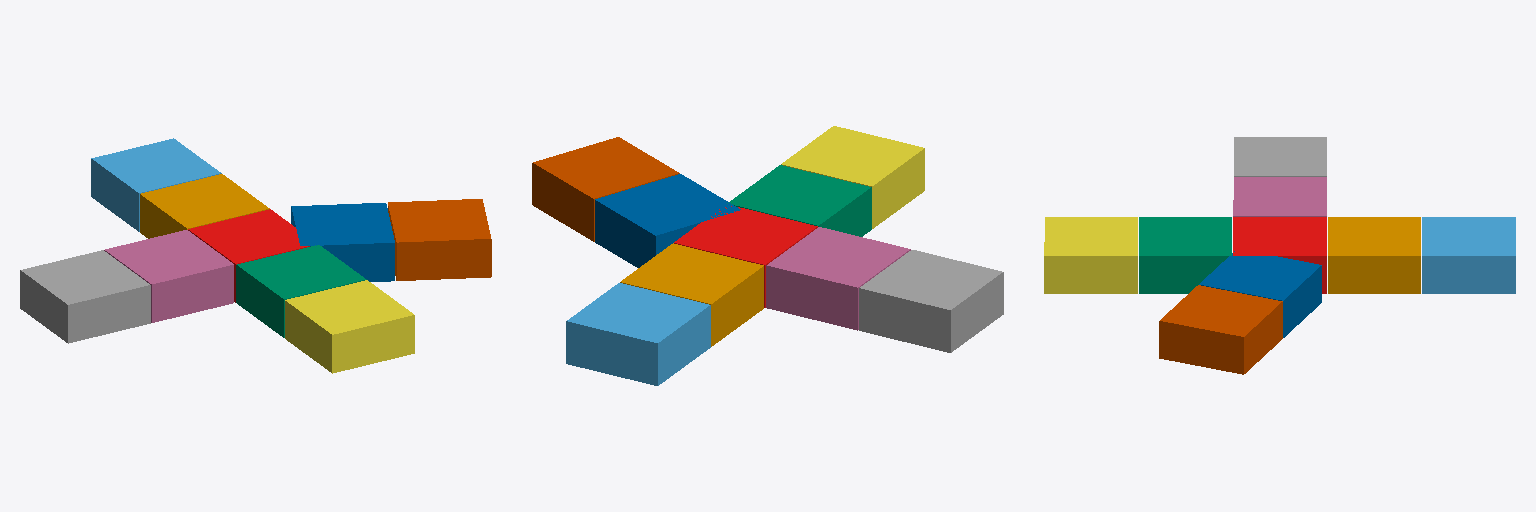
URDF robot description (rob):
<?xml version='1.0' encoding='UTF-8'?>
<robot name="rob">
  <link name="set1_arm1">
    <inertial>
      <origin xyz="0.0 0.34 0.0" rpy="0.0 0.0 0.0"/>
      <mass value="1.0"/>
      <inertia ixx="0.0" ixy="0.0" ixz="0.0" iyy="0.0" iyz="0.0" izz="0.0"/>
    </inertial>
    <visual>
      <geometry>
        <box size="0.67 0.67 0.3 "/>
      </geometry>
      <origin xyz="0.0 0.34 0.0" rpy="0.0 0.0 0.0"/>
    </visual>
    <collision>
      <geometry>
        <box size="0.67 0.67 0.3 "/>
      </geometry>
      <origin xyz="0.0 0.34 0.0" rpy="0.0 0.0 0.0"/>
    </collision>
  </link>
  <link name="set1_arm2">
    <inertial>
      <origin xyz="0.0 0.34 0.0" rpy="0.0 0.0 0.0"/>
      <mass value="1.0"/>
      <inertia ixx="0.0" ixy="0.0" ixz="0.0" iyy="0.0" iyz="0.0" izz="0.0"/>
    </inertial>
    <visual>
      <geometry>
        <box size="0.67 0.67 0.3 "/>
      </geometry>
      <origin xyz="0.0 0.34 0.0" rpy="0.0 0.0 0.0"/>
    </visual>
    <collision>
      <geometry>
        <box size="0.67 0.67 0.3 "/>
      </geometry>
      <origin xyz="0.0 0.34 0.0" rpy="0.0 0.0 0.0"/>
    </collision>
  </link>
  <link name="set2_arm1">
    <inertial>
      <origin xyz="0.0 0.34 0.0" rpy="0.0 0.0 0.0"/>
      <mass value="1.0"/>
      <inertia ixx="0.0" ixy="0.0" ixz="0.0" iyy="0.0" iyz="0.0" izz="0.0"/>
    </inertial>
    <visual>
      <geometry>
        <box size="0.67 0.67 0.3 "/>
      </geometry>
      <origin xyz="0.0 0.34 0.0" rpy="0.0 0.0 0.0"/>
    </visual>
    <collision>
      <geometry>
        <box size="0.67 0.67 0.3 "/>
      </geometry>
      <origin xyz="0.0 0.34 0.0" rpy="0.0 0.0 0.0"/>
    </collision>
  </link>
  <link name="set2_arm2">
    <inertial>
      <origin xyz="0.0 0.34 0.0" rpy="0.0 0.0 0.0"/>
      <mass value="1.0"/>
      <inertia ixx="0.0" ixy="0.0" ixz="0.0" iyy="0.0" iyz="0.0" izz="0.0"/>
    </inertial>
    <visual>
      <geometry>
        <box size="0.67 0.67 0.3 "/>
      </geometry>
      <origin xyz="0.0 0.34 0.0" rpy="0.0 0.0 0.0"/>
    </visual>
    <collision>
      <geometry>
        <box size="0.67 0.67 0.3 "/>
      </geometry>
      <origin xyz="0.0 0.34 0.0" rpy="0.0 0.0 0.0"/>
    </collision>
  </link>
  <link name="set3_arm1">
    <inertial>
      <origin xyz="0.0 0.34 0.0" rpy="0.0 0.0 0.0"/>
      <mass value="1.0"/>
      <inertia ixx="0.0" ixy="0.0" ixz="0.0" iyy="0.0" iyz="0.0" izz="0.0"/>
    </inertial>
    <visual>
      <geometry>
        <box size="0.67 0.67 0.3 "/>
      </geometry>
      <origin xyz="0.0 0.34 0.0" rpy="0.0 0.0 0.0"/>
    </visual>
    <collision>
      <geometry>
        <box size="0.67 0.67 0.3 "/>
      </geometry>
      <origin xyz="0.0 0.34 0.0" rpy="0.0 0.0 0.0"/>
    </collision>
  </link>
  <link name="set3_arm2">
    <inertial>
      <origin xyz="0.0 0.34 0.0" rpy="0.0 0.0 0.0"/>
      <mass value="1.0"/>
      <inertia ixx="0.0" ixy="0.0" ixz="0.0" iyy="0.0" iyz="0.0" izz="0.0"/>
    </inertial>
    <visual>
      <geometry>
        <box size="0.67 0.67 0.3 "/>
      </geometry>
      <origin xyz="0.0 0.34 0.0" rpy="0.0 0.0 0.0"/>
    </visual>
    <collision>
      <geometry>
        <box size="0.67 0.67 0.3 "/>
      </geometry>
      <origin xyz="0.0 0.34 0.0" rpy="0.0 0.0 0.0"/>
    </collision>
  </link>
  <link name="set4_arm1">
    <inertial>
      <origin xyz="0.0 0.34 0.0" rpy="0.0 0.0 0.0"/>
      <mass value="1.0"/>
      <inertia ixx="0.0" ixy="0.0" ixz="0.0" iyy="0.0" iyz="0.0" izz="0.0"/>
    </inertial>
    <visual>
      <geometry>
        <box size="0.67 0.67 0.3 "/>
      </geometry>
      <origin xyz="0.0 0.34 0.0" rpy="0.0 0.0 0.0"/>
    </visual>
    <collision>
      <geometry>
        <box size="0.67 0.67 0.3 "/>
      </geometry>
      <origin xyz="0.0 0.34 0.0" rpy="0.0 0.0 0.0"/>
    </collision>
  </link>
  <link name="set4_arm2">
    <inertial>
      <origin xyz="0.0 0.34 0.0" rpy="0.0 0.0 0.0"/>
      <mass value="1.0"/>
      <inertia ixx="0.0" ixy="0.0" ixz="0.0" iyy="0.0" iyz="0.0" izz="0.0"/>
    </inertial>
    <visual>
      <geometry>
        <box size="0.67 0.67 0.3 "/>
      </geometry>
      <origin xyz="0.0 0.34 0.0" rpy="0.0 0.0 0.0"/>
    </visual>
    <collision>
      <geometry>
        <box size="0.67 0.67 0.3 "/>
      </geometry>
      <origin xyz="0.0 0.34 0.0" rpy="0.0 0.0 0.0"/>
    </collision>
  </link>
  <link name="base_link">
    <inertial>
      <origin xyz="0.0 0.0 0.0" rpy="0.0 -0.0 0.0"/>
      <mass value="1.0"/>
      <inertia ixx="1.0" ixy="0.0" ixz="0.0" iyy="1.0" iyz="0.0" izz="1.0"/>
    </inertial>
    <visual>
      <geometry>
        <box size="0.67 0.67 0.3 "/>
      </geometry>
      <material name="red"/>
      <origin xyz="0.0 0.0 0.0" rpy="0.0 -0.0 0.0"/>
    </visual>
    <collision>
      <geometry>
        <box size="0.67 0.67 0.3 "/>
      </geometry>
      <origin xyz="0.0 0.0 0.0" rpy="0.0 0.0 0.0"/>
    </collision>
  </link>
  <joint name="set1_jointBase" type="fixed">
    <limit effort="1.57" velocity="1.57" lower="-1.57" upper="1.57"/>
    <parent link="base_link"/>
    <child link="set1_arm1"/>
    <axis xyz="1. 0. 0."/>
    <origin xyz="0.0 0.34 0.0" rpy="0.0 0.0 0.0"/>
  </joint>
  <joint name="set1_joint1" type="revolute">
    <limit effort="1.57" velocity="1.57" lower="-1.57" upper="1.57"/>
    <parent link="set1_arm1"/>
    <child link="set1_arm2"/>
    <axis xyz="1. 0. 0."/>
    <origin xyz="0.0 0.68 0.0" rpy="0.0 0.0 0.0"/>
  </joint>
  <joint name="set2_jointBase" type="fixed">
    <limit effort="1.57" velocity="1.57" lower="-1.57" upper="1.57"/>
    <parent link="base_link"/>
    <child link="set2_arm1"/>
    <axis xyz="1. 0. 0."/>
    <origin xyz="0.0 -0.34 0.0" rpy="0.0 0.0 3.141"/>
  </joint>
  <joint name="set2_joint1" type="revolute">
    <limit effort="1.57" velocity="1.57" lower="-1.57" upper="1.57"/>
    <parent link="set2_arm1"/>
    <child link="set2_arm2"/>
    <axis xyz="1. 0. 0."/>
    <origin xyz="0.0 0.68 0.0" rpy="0.0 0.0 0.0"/>
  </joint>
  <joint name="set3_jointBase" type="fixed">
    <limit effort="1.57" velocity="1.57" lower="-1.57" upper="1.57"/>
    <parent link="base_link"/>
    <child link="set3_arm1"/>
    <axis xyz="1. 0. 0."/>
    <origin xyz="0.34 0.0 0.0" rpy="0.0 0.0 -2.0"/>
  </joint>
  <joint name="set3_joint1" type="revolute">
    <limit effort="1.57" velocity="1.57" lower="-1.57" upper="1.57"/>
    <parent link="set3_arm1"/>
    <child link="set3_arm2"/>
    <axis xyz="1. 0. 0."/>
    <origin xyz="0.0 0.68 0.0" rpy="0.0 0.0 0.0"/>
  </joint>
  <joint name="set4_jointBase" type="fixed">
    <limit effort="1.57" velocity="1.57" lower="-1.57" upper="1.57"/>
    <parent link="base_link"/>
    <child link="set4_arm1"/>
    <axis xyz="1. 0. 0."/>
    <origin xyz="-0.34 0.0 0.0" rpy="0.0 0.0 1.57"/>
  </joint>
  <joint name="set4_joint1" type="revolute">
    <limit effort="1.57" velocity="1.57" lower="-1.57" upper="1.57"/>
    <parent link="set4_arm1"/>
    <child link="set4_arm2"/>
    <axis xyz="1. 0. 0."/>
    <origin xyz="0.0 0.68 0.0" rpy="0.0 0.0 0.0"/>
  </joint>
  <material name="red">
    <color rgba="0.969 0.129 0.122 1.   "/>
  </material>
</robot>

--- What the picture shows (computed from the rendered views, not written in the file) ---
The picture shows the robot from 3 angles, left to right: view 1: azimuth 30°, elevation 25°; view 2: azimuth 150°, elevation 25°; view 3: azimuth 270°, elevation 25°; orthographic projection.
Model rob with 9 links and 8 joints (4 revolute, 4 fixed), rooted at base_link, posed all joints at 0.
Visible links, largest first — view 1: set4_arm2, set2_arm2, set3_arm2, set4_arm1, set3_arm1, set1_arm2, set2_arm1, set1_arm1, base_link; view 2: set4_arm2, set1_arm2, set4_arm1, set3_arm1, set3_arm2, set1_arm1, set2_arm2, set2_arm1, base_link; view 3: set3_arm2, set1_arm2, set2_arm2, set1_arm1, set2_arm1, set3_arm1, base_link, set4_arm1, set4_arm2.
Link boxes in pixels (bbox=[...]): set4_arm2: bbox=[20, 250, 150, 343]; set2_arm2: bbox=[285, 280, 414, 373]; set3_arm2: bbox=[388, 199, 491, 280]; set4_arm1: bbox=[104, 230, 233, 322]; set3_arm1: bbox=[291, 203, 394, 281]; set1_arm2: bbox=[91, 138, 221, 231]; set2_arm1: bbox=[236, 245, 366, 337]; set1_arm1: bbox=[140, 174, 269, 238]; base_link: bbox=[188, 209, 309, 302]; set4_arm2: bbox=[859, 250, 1003, 352]; set1_arm2: bbox=[566, 283, 710, 385]; set4_arm1: bbox=[766, 227, 910, 330]; set3_arm1: bbox=[595, 174, 740, 267]; set3_arm2: bbox=[532, 137, 679, 241]; set1_arm1: bbox=[620, 243, 763, 346]; set2_arm2: bbox=[781, 126, 924, 228]; set2_arm1: bbox=[727, 165, 871, 236]; base_link: bbox=[674, 206, 817, 307]; set3_arm2: bbox=[1159, 285, 1282, 374]; set1_arm2: bbox=[1422, 217, 1515, 293]; set2_arm2: bbox=[1044, 217, 1137, 293]; set1_arm1: bbox=[1328, 217, 1420, 293]; set2_arm1: bbox=[1139, 217, 1231, 293]; set3_arm1: bbox=[1199, 251, 1321, 337]; base_link: bbox=[1233, 217, 1326, 293]; set4_arm1: bbox=[1233, 177, 1326, 216]; set4_arm2: bbox=[1234, 137, 1326, 176].
Size in the robot's own frame: 3.41 by 3.39 by 0.3 metres.
Geometry: primitives only (box / cylinder / sphere), no mesh files.